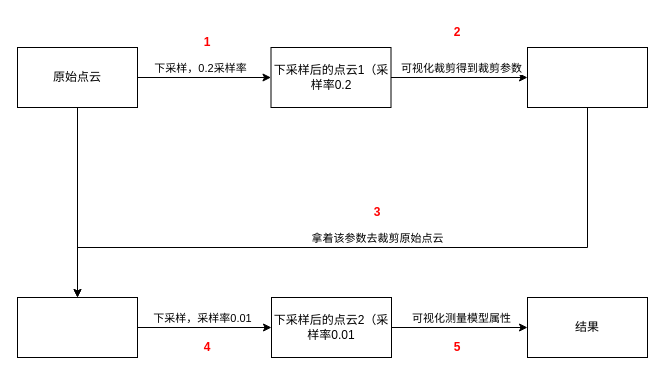
Image size: 665x379. Some labels were removed from this diagram. Here are the shapes that lost their labels. From the top down, the centre of each, then its label:
At [587,77]: "裁剪立方体的参数".
At [77,327]: "裁剪后的点云".
